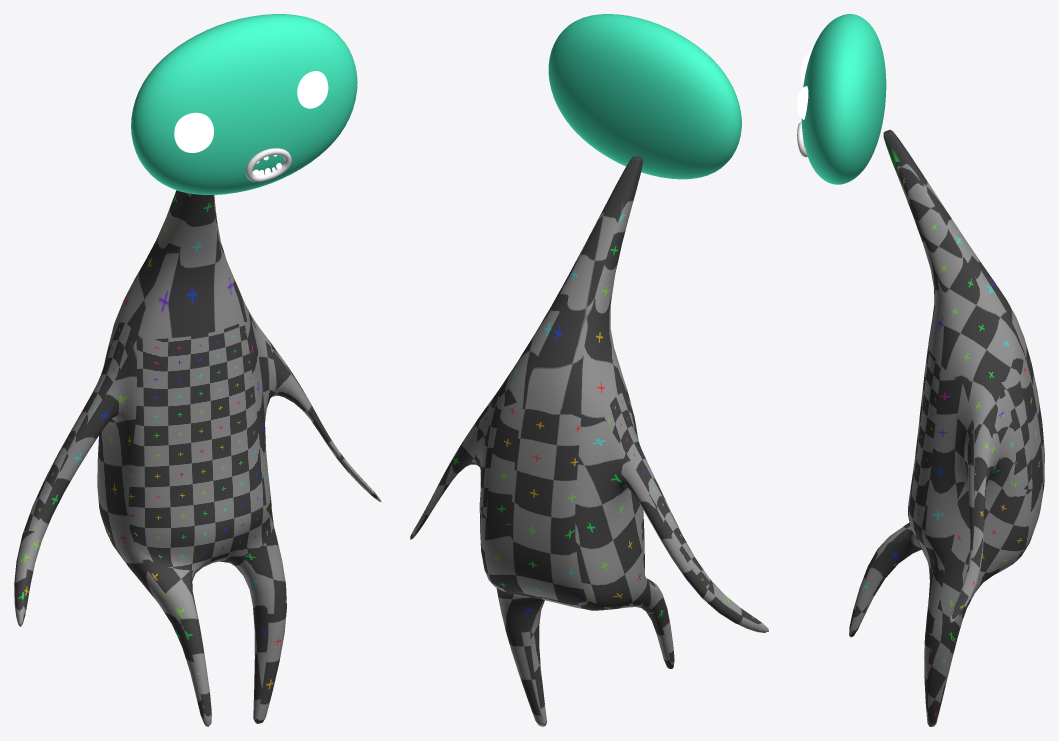
The picture shows the model from 3 angles, left to right: view 1: azimuth 30°, elevation 25°; view 2: azimuth 150°, elevation 25°; view 3: azimuth 270°, elevation 25°; orthographic projection. The views are drawn at different scales.
Visible parts, largest first — view 1: body, head; view 2: body, head; view 3: body, head.
Part boxes in pixels (left/top/right/bottom): body: left=14, top=190, right=381, bottom=726; head: left=131, top=14, right=357, bottom=194; body: left=410, top=156, right=768, bottom=726; head: left=548, top=14, right=741, bottom=179; body: left=849, top=129, right=1044, bottom=726; head: left=797, top=14, right=886, bottom=184.
Size of what is drawn, in the model's own units: 15.15 by 28.83 by 9.64.
Materials: 5 (1 with a texture image).
